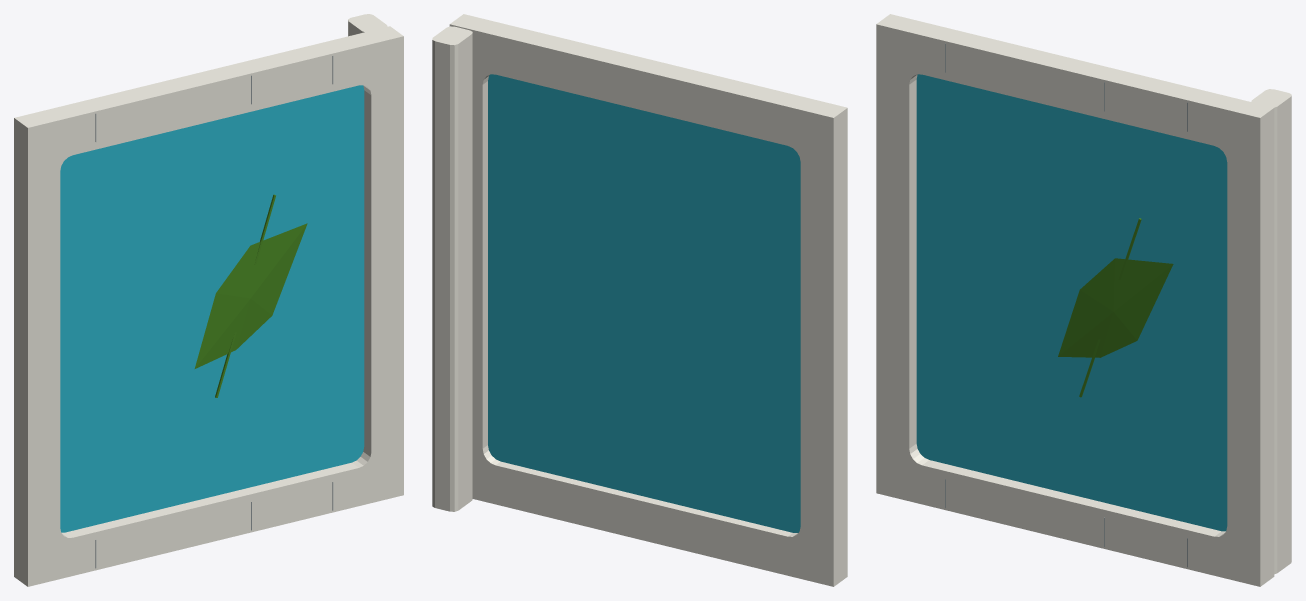
Rendered from wall_bay_tall.glb.
3 views of the same model, side by side, from view 1: azimuth 30°, elevation 25°; view 2: azimuth 150°, elevation 25°; view 3: azimuth 330°, elevation 25° (orthographic). The views are drawn at different scales.
Parts seen in each view (by area): view 1: Aero_wall_bay_tall; view 2: Aero_wall_bay_tall; view 3: Aero_wall_bay_tall.
Part boxes in pixels (<box>): Aero_wall_bay_tall: <box>14,14,403,586</box>; Aero_wall_bay_tall: <box>432,14,847,586</box>; Aero_wall_bay_tall: <box>876,14,1291,586</box>.
Size of the model in its own units: 3.6 by 4.2 by 0.556.
4 materials, 4 textured.
